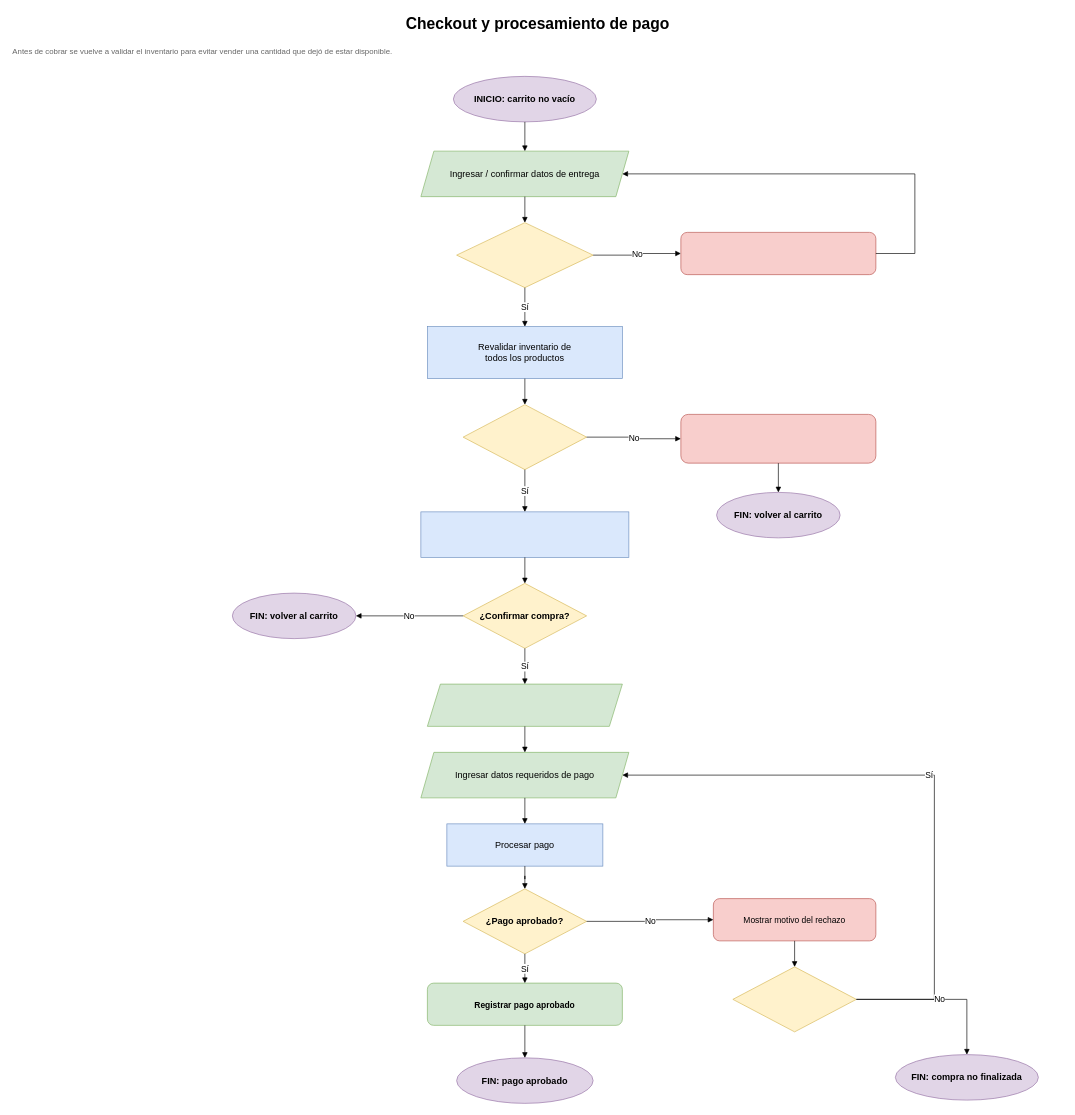
Some shapes in this 1075 by 1115 pixel diagram are drawn without their labels. The shapes that lost their labels are listed below. From the top down, each one's box as (x1, y1, x2, y2) in pixels, then its label:
(456, 222, 593, 288): ¿Datos de entrega válidos?
(680, 232, 876, 275): Mostrar datos que deben corregirse
(462, 404, 587, 470): ¿Todo sigue disponible?
(680, 414, 876, 463): Informar cambio de inventario y no procesar el pago
(420, 511, 629, 557): Calcular total final y mostrar resumen
(427, 683, 622, 726): Seleccionar método de pago
(732, 966, 856, 1032): ¿Reintentar pago?
